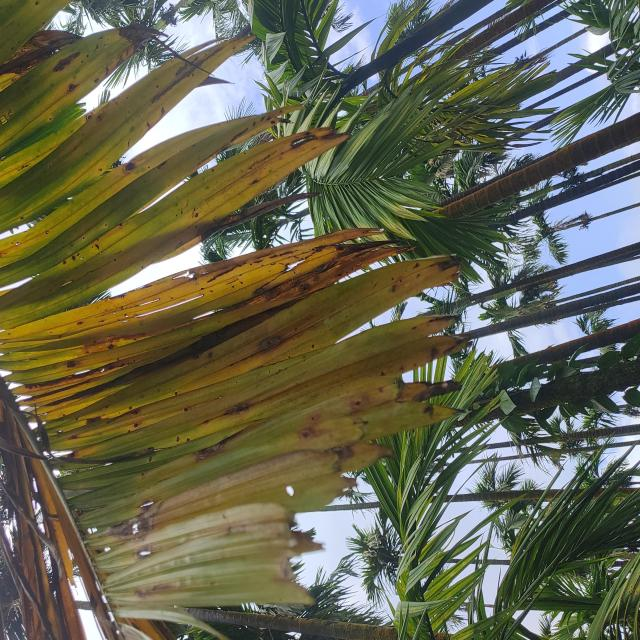Stem_Cracking: (73, 111, 445, 524)
